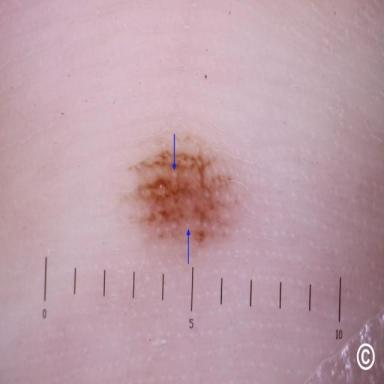Melanoma: (133, 150, 236, 242)
